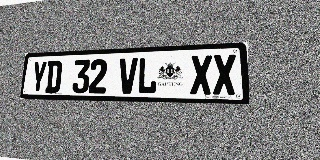2: (88, 59, 107, 93)
3: (72, 59, 90, 93)
D: (45, 60, 62, 93)
L: (137, 57, 157, 94)
V: (118, 58, 138, 94)
X: (213, 54, 236, 95), (190, 55, 212, 95)
Y: (30, 61, 47, 93)
